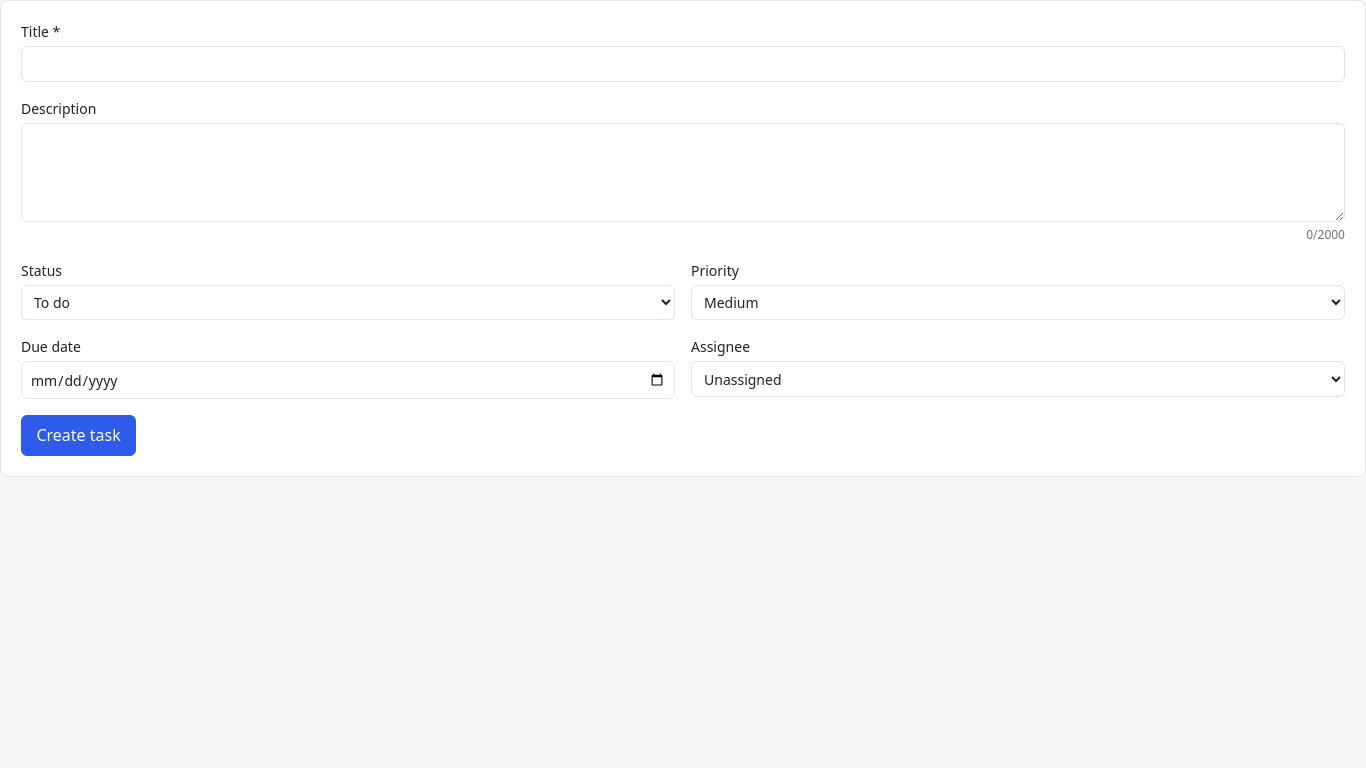
Test case: TaskForm › shows server-side field errors returned by the API
Type "x" into the field labelled "Title *" at (683, 64), box 21,46 -> 1345,82
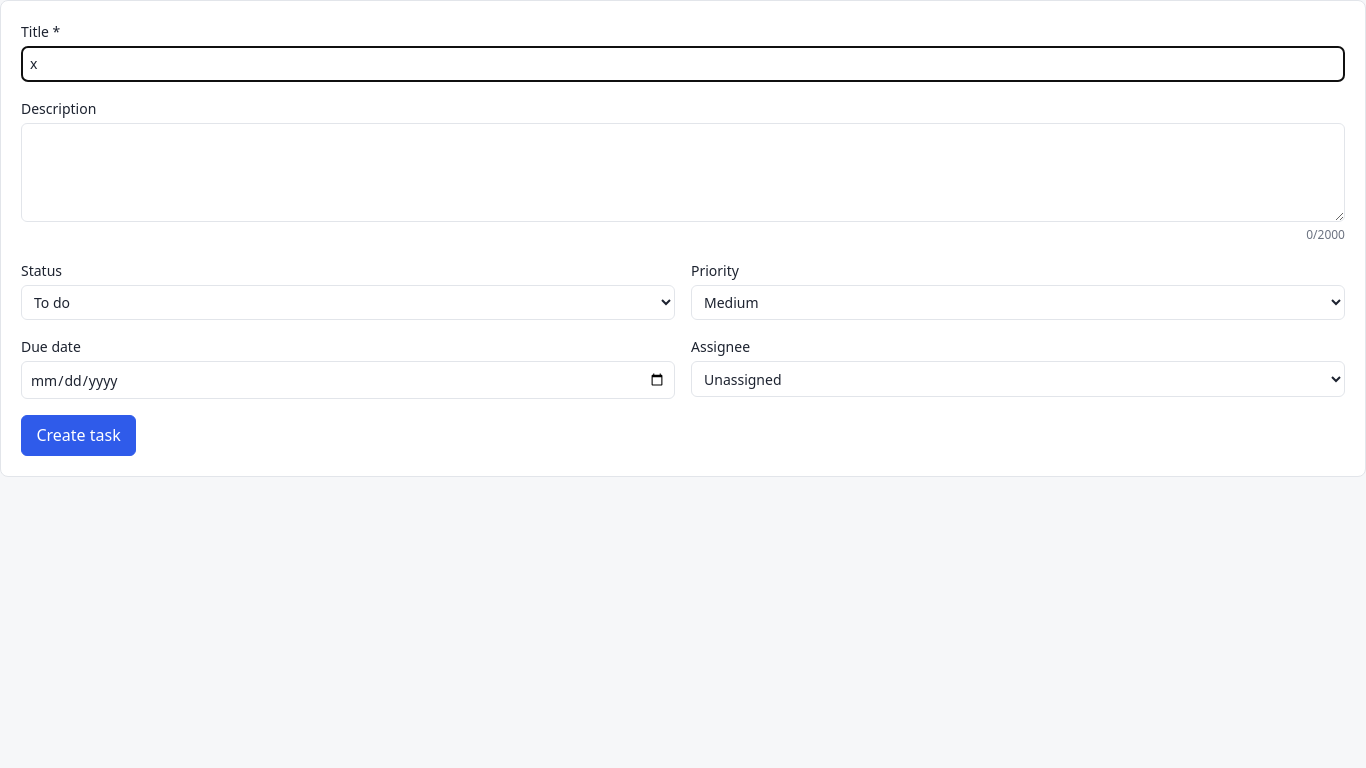
Click the button "Create task" at (79, 435), box 21,415 -> 136,456
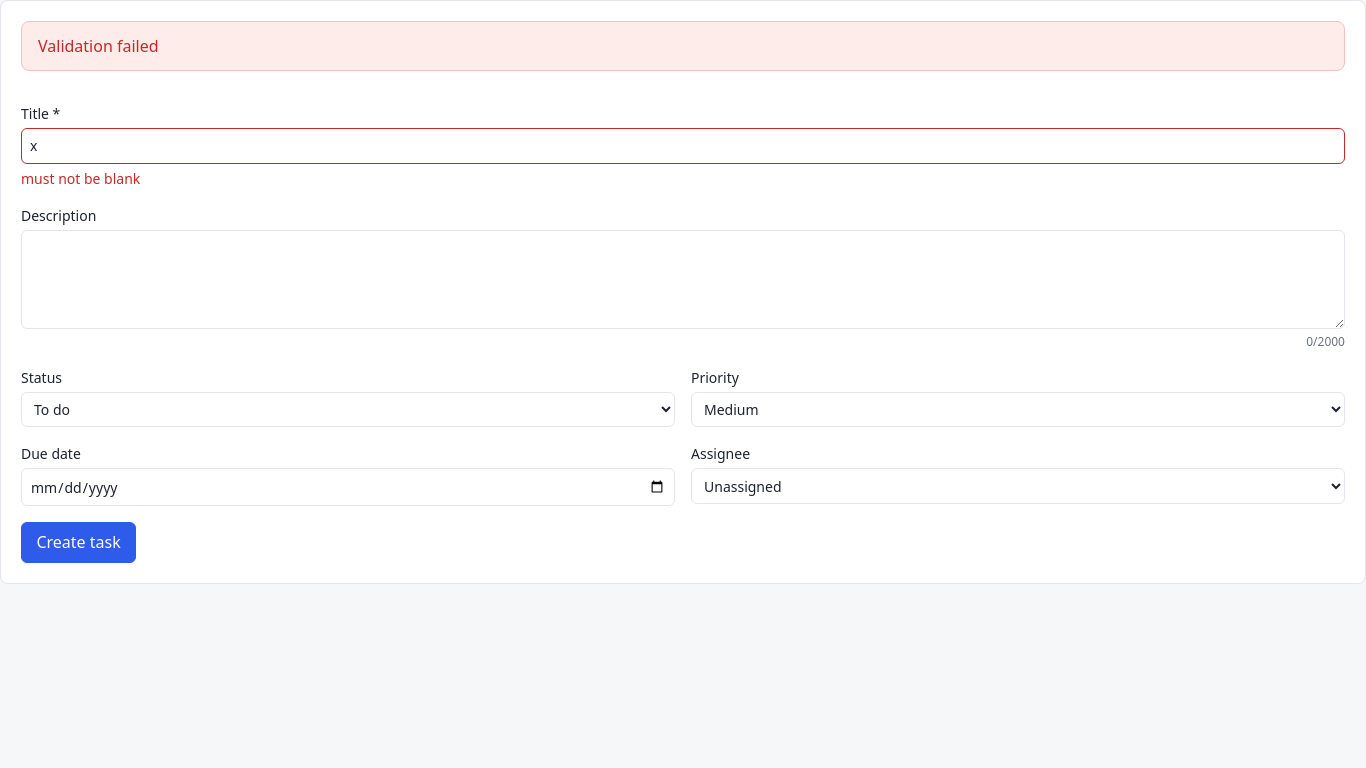
Check: the button "Create task" is enabled, box 21,522 -> 136,562
Check: the message reads "Validation failed", box 38,35 -> 159,57
Check: the text "must not be blank" is shown, box 21,169 -> 140,188
